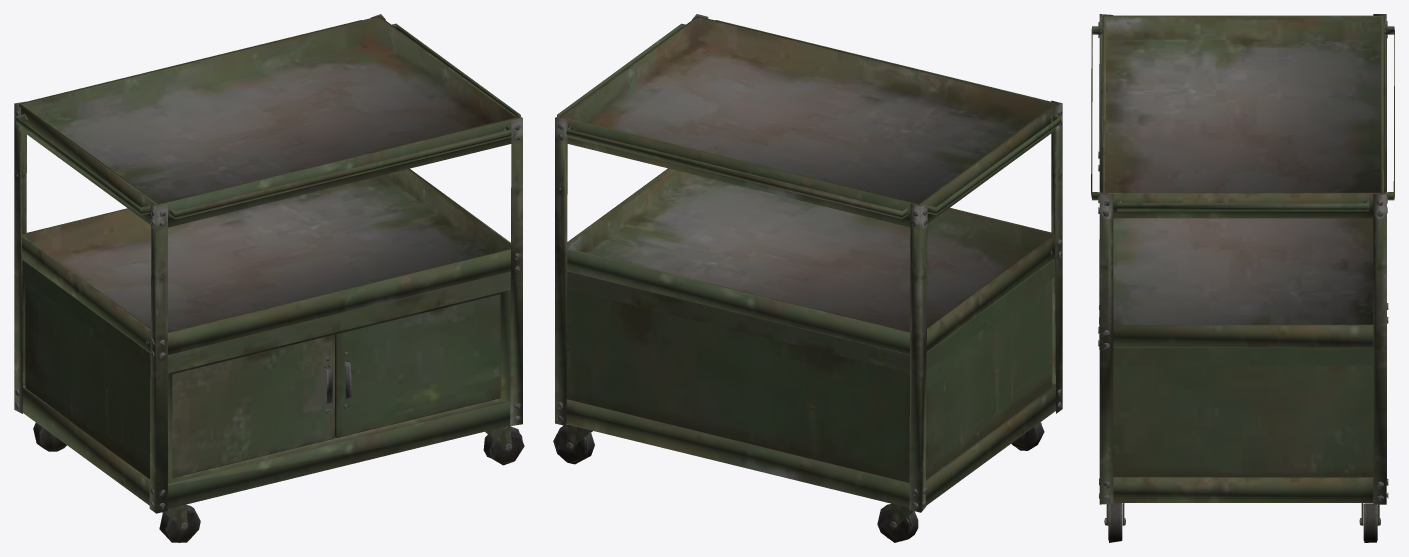
Rendered from industrial_storage_cart.glb.
3 views of the same model, side by side, from view 1: azimuth 30°, elevation 25°; view 2: azimuth 150°, elevation 25°; view 3: azimuth 270°, elevation 25° (orthographic).
Parts seen in each view (by area): view 1: industrial_storage_cart; view 2: industrial_storage_cart; view 3: industrial_storage_cart.
Boxes of the visible parts, x1,y1,x2,y2 form: industrial_storage_cart: (14, 14, 524, 542); industrial_storage_cart: (553, 14, 1062, 542); industrial_storage_cart: (1091, 14, 1394, 542).
Size of the model in its own units: 1.58 by 1.38 by 1.08.
1 material, 1 textured.
